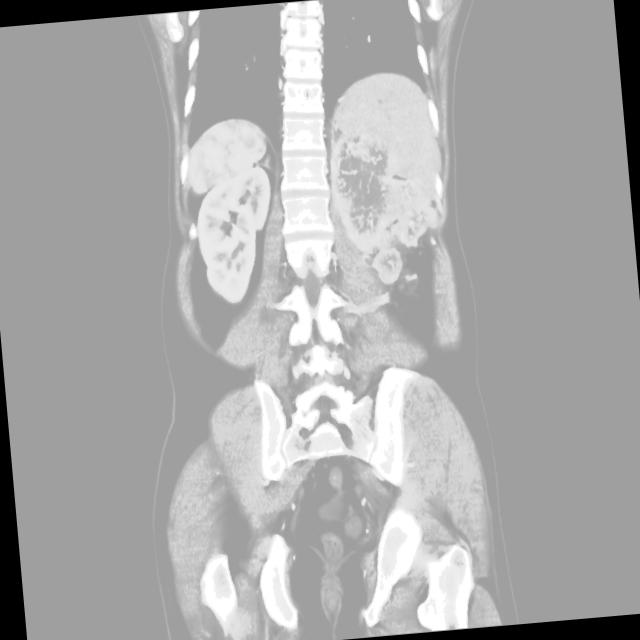TUMOR: (112, 110, 533, 398)
